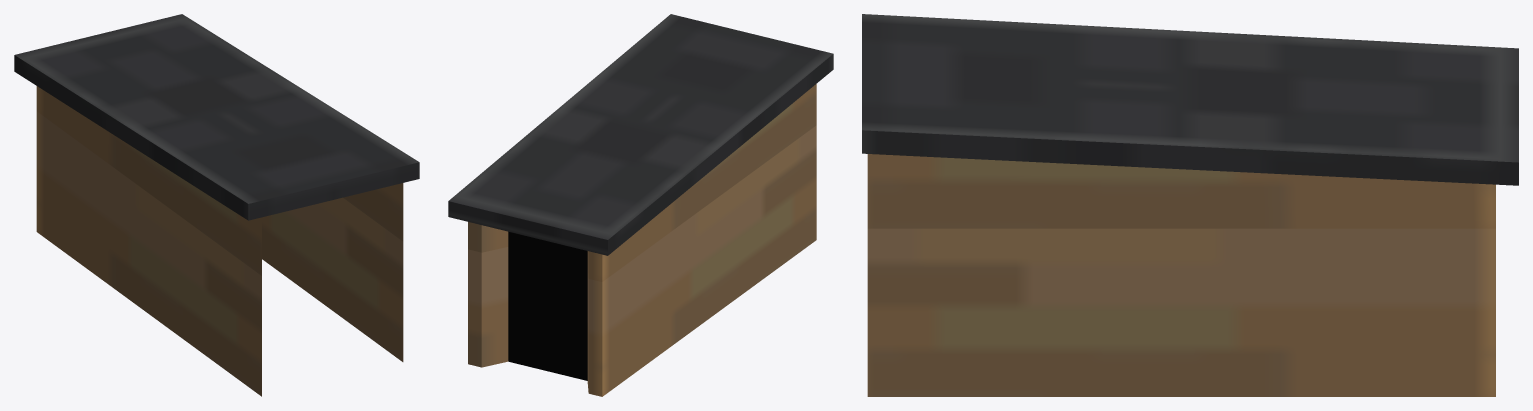
Rendered from roof_window_v4a.fbx.
The picture shows the model from 3 angles, left to right: view 1: azimuth 30°, elevation 25°; view 2: azimuth 150°, elevation 25°; view 3: azimuth 270°, elevation 25°; orthographic projection. The views are drawn at different scales.
Parts seen in each view (by area): view 1: roof_window_v4a; view 2: roof_window_v4a; view 3: roof_window_v4a.
Part boxes in pixels (<box>): roof_window_v4a: <box>14,14,419,396</box>; roof_window_v4a: <box>448,14,833,396</box>; roof_window_v4a: <box>862,14,1518,396</box>.
Bounding box in the file's own units: 148 × 164 × 354.
